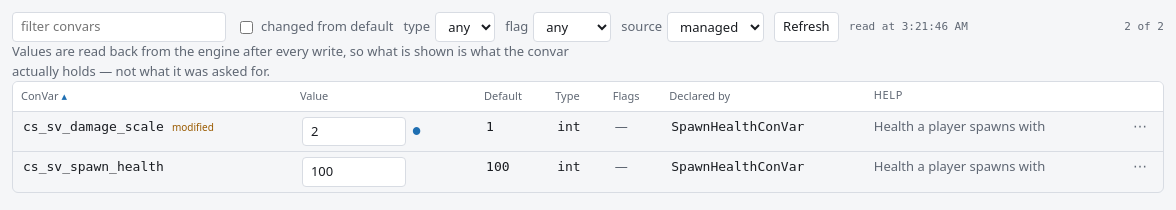
filtering › can show only what differs from its default
Expected: the text "cs_sv_spawn_health" is shown, [13,152,292,192]
Click the checkbox labelled "changed from default" at coordinates (246, 27), box [240,20,253,34]
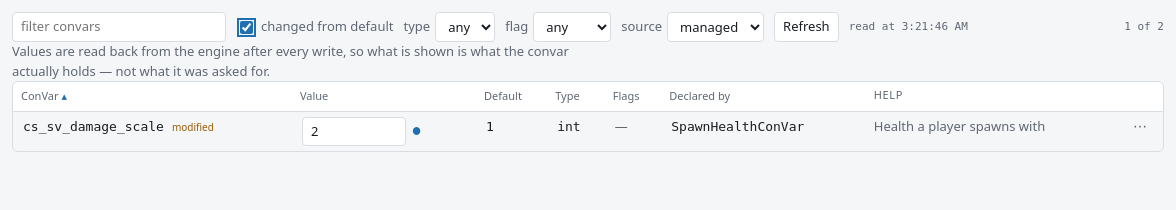
Expected: the text "cs_sv_damage_scale" is shown, [13,111,292,151]
Now the text "cs_sv_spawn_health" is gone
